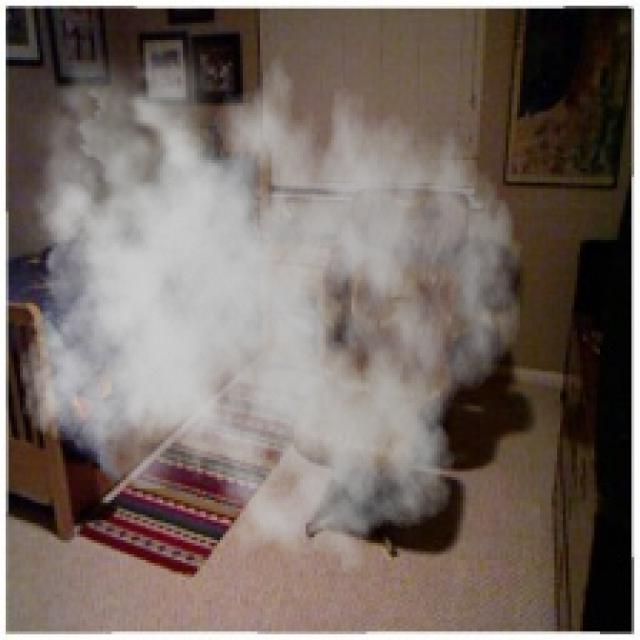Smoke: (3, 19, 523, 574)
